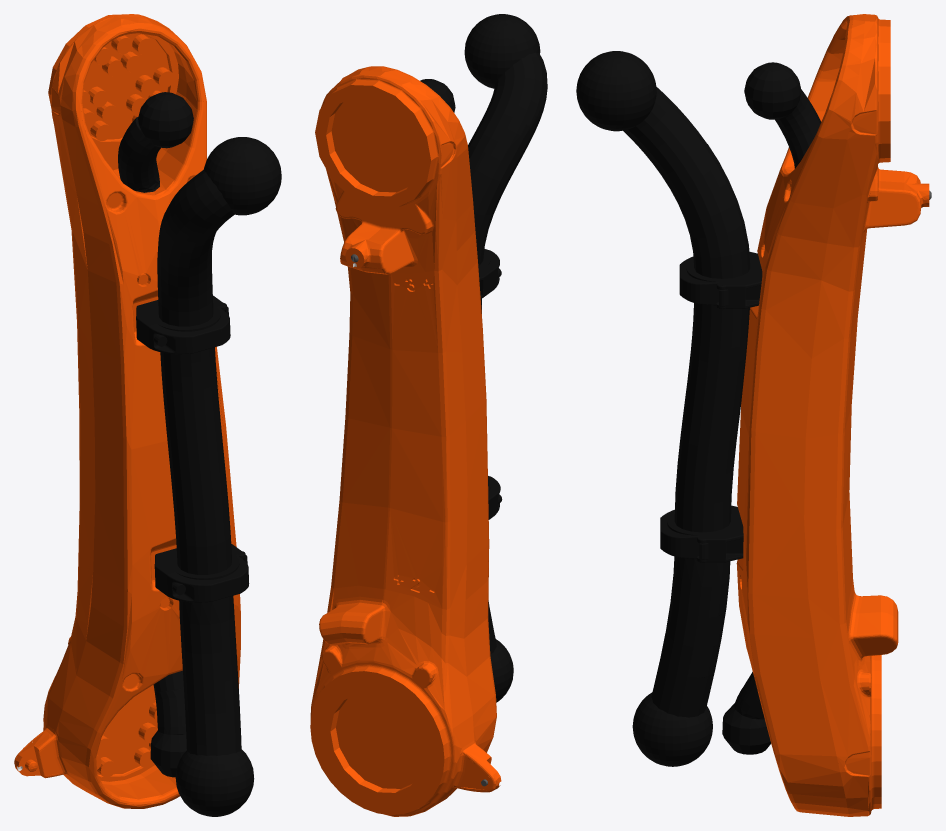
3 views of the same model, side by side, from view 1: azimuth 30°, elevation 25°; view 2: azimuth 150°, elevation 25°; view 3: azimuth 270°, elevation 25° (orthographic). The views are drawn at different scales.
Visible parts, largest first — view 1: link_2; view 2: link_2; view 3: link_2.
Part boxes in pixels (box(x1,y1,x2,y2)): link_2: box(14, 14, 281, 816); link_2: box(310, 14, 547, 816); link_2: box(576, 14, 931, 816).
Size of the model in its own units: 0.1953 by 0.3091 by 0.7552.
